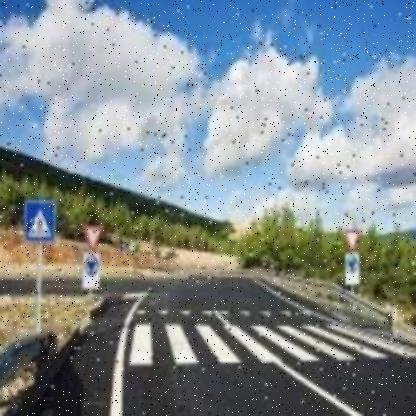Pedestrian Crossing: (26, 194, 56, 247)
